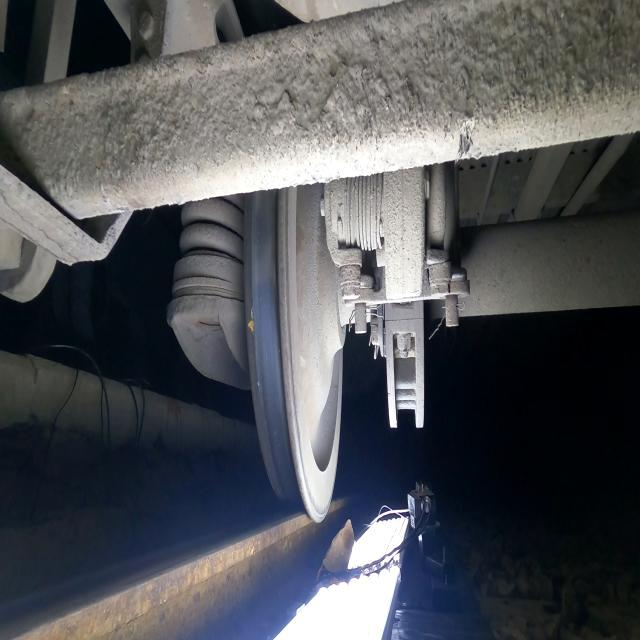Cracks-Scratches: (248, 308, 254, 333)
Shelling: (251, 193, 277, 284)
Wheel: (244, 185, 345, 523)
